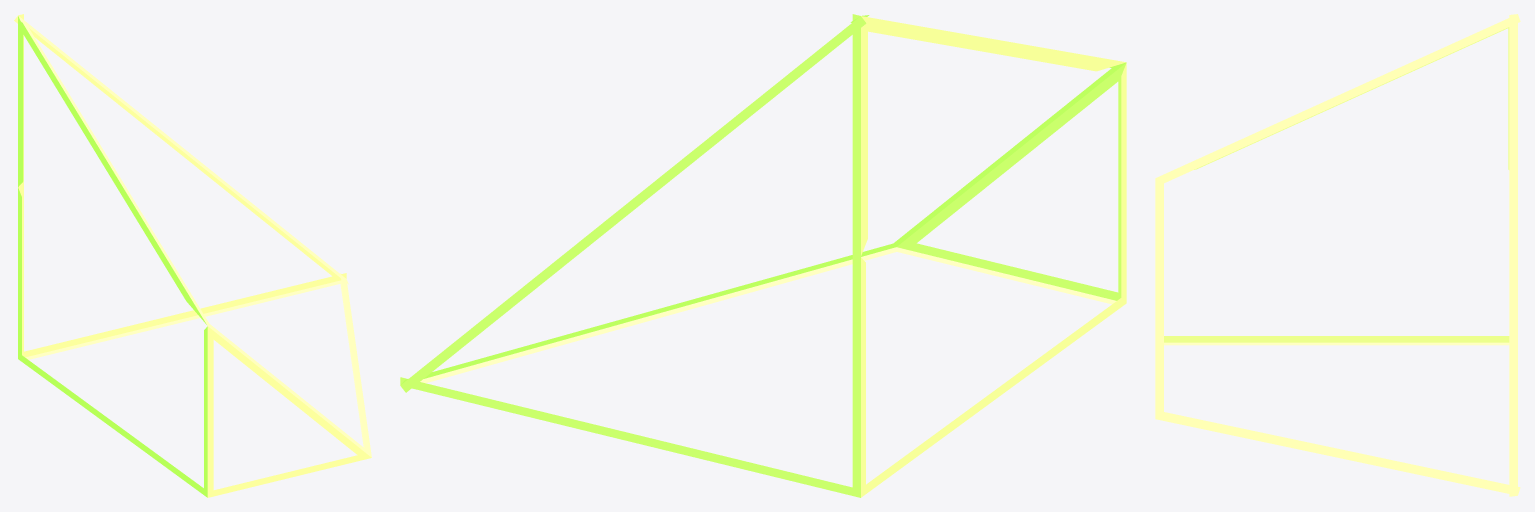
The model's file is r5c2_highlight_green.glb.
The picture shows the model from 3 angles, left to right: view 1: azimuth 30°, elevation 25°; view 2: azimuth 150°, elevation 25°; view 3: azimuth 270°, elevation 25°; orthographic projection. The views are drawn at different scales.
Visible parts, largest first — view 1: r5c2_highlight_green; view 2: r5c2_highlight_green; view 3: r5c2_highlight_green.
Part boxes in pixels (x1,y1,x2,y2): r5c2_highlight_green: (14, 14, 371, 497); r5c2_highlight_green: (400, 14, 1126, 497); r5c2_highlight_green: (1155, 14, 1520, 496).
Bounding box in the file's own units: 2.02 × 2.02 × 2.02.
